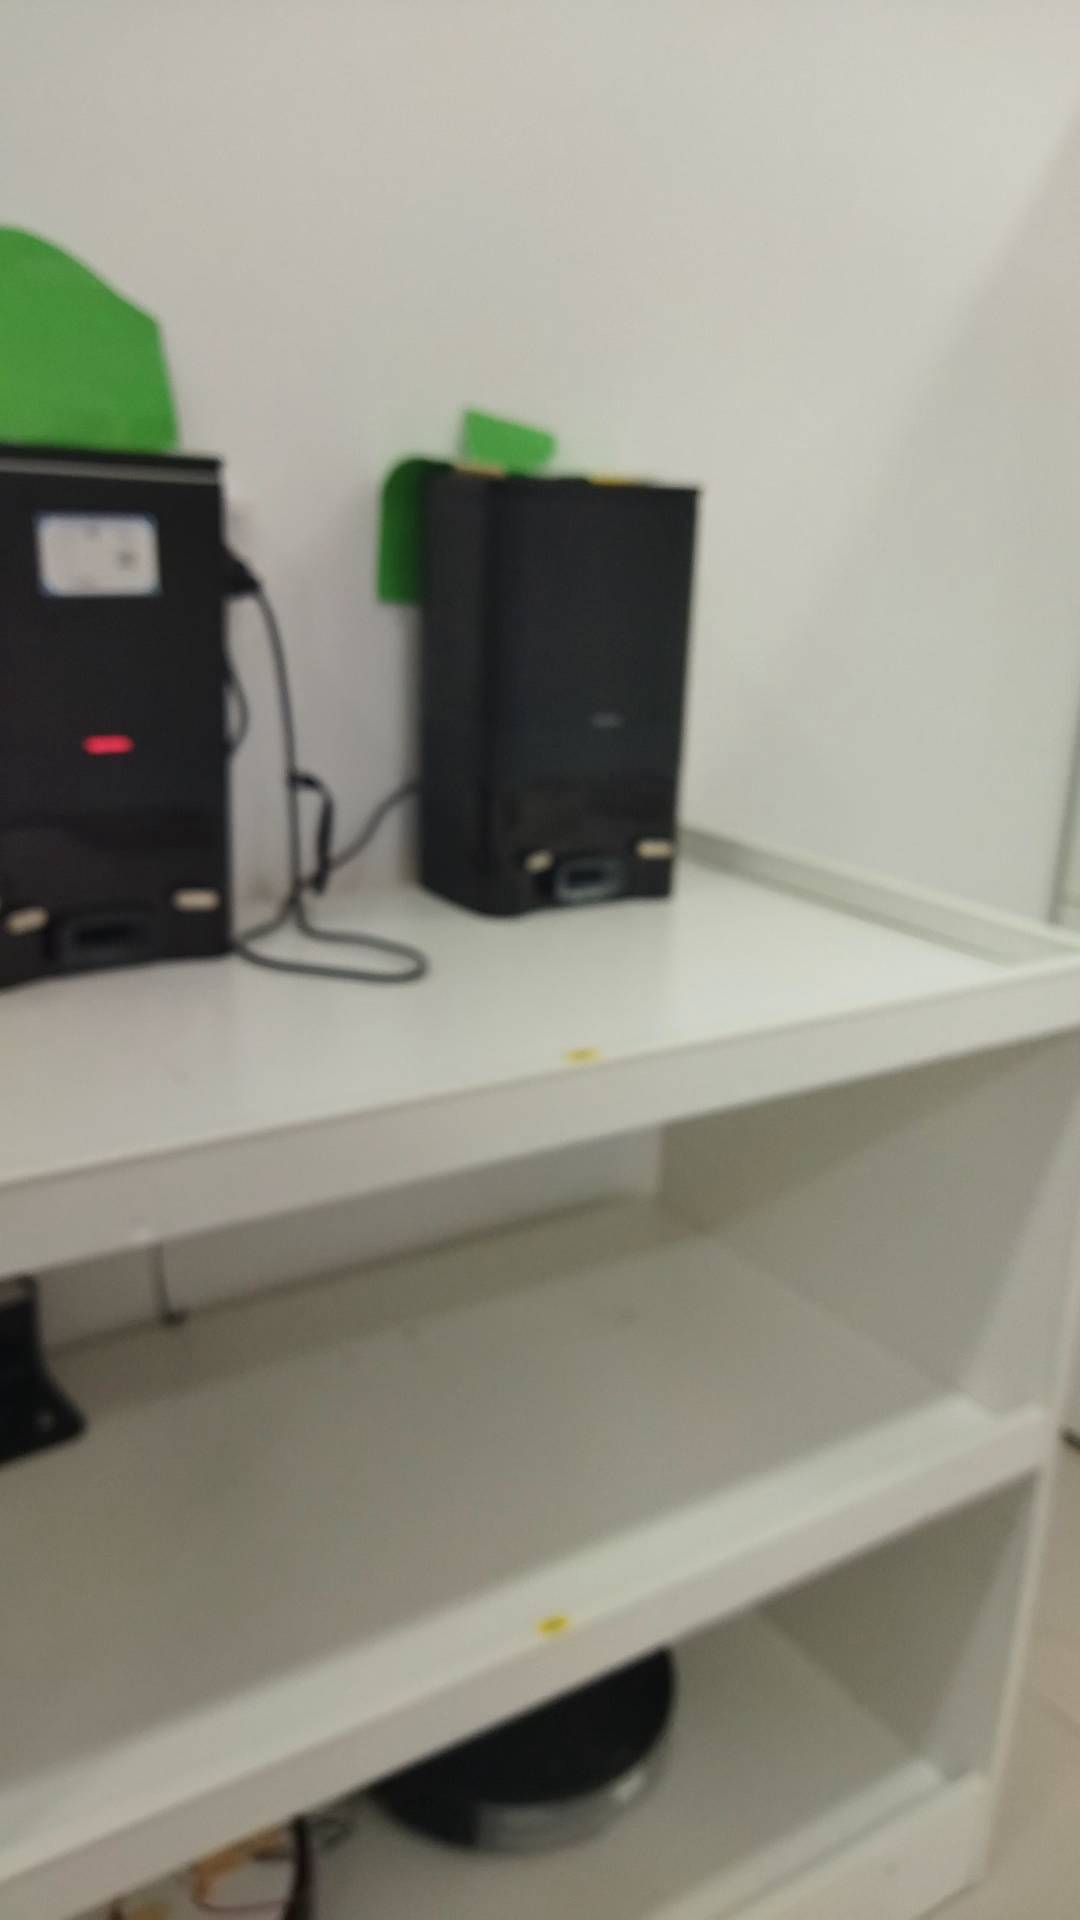dust collecting barrel: (415, 463, 703, 920), (1, 436, 228, 1004)
